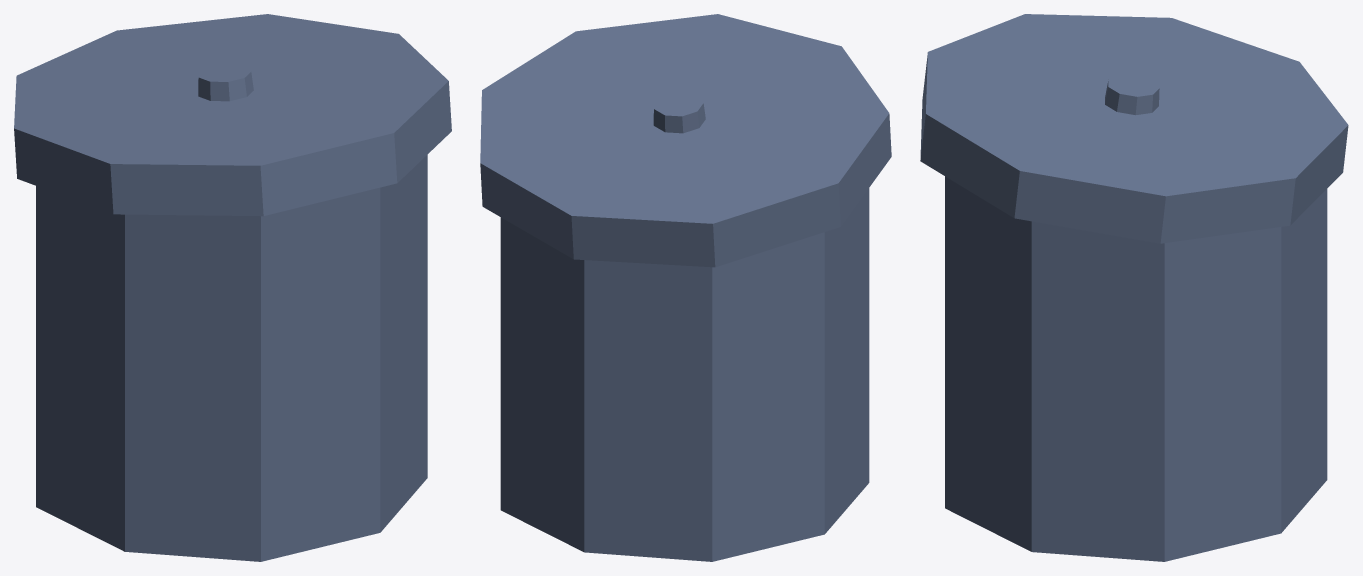
File: trash can.fbx
3 views of the same model, side by side, from view 1: azimuth 30°, elevation 25°; view 2: azimuth 150°, elevation 25°; view 3: azimuth 270°, elevation 25° (orthographic). The views are drawn at different scales.
Parts seen in each view (by area): view 1: Cylinder.001; view 2: Cylinder.001; view 3: Cylinder.001.
Part boxes in pixels (bbox=[...]): Cylinder.001: bbox=[14, 14, 451, 561]; Cylinder.001: bbox=[480, 14, 891, 561]; Cylinder.001: bbox=[920, 14, 1348, 561].
Size of the model in its own units: 38.13 by 38.98 by 38.37.
